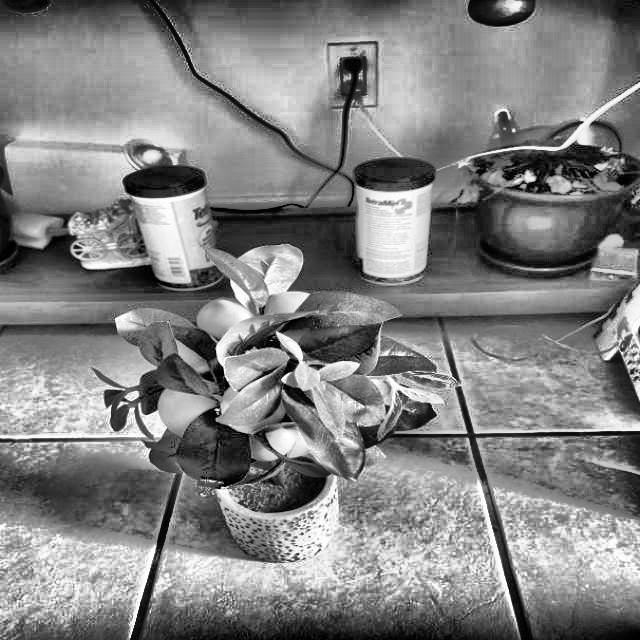plants: (104, 317, 487, 509)
